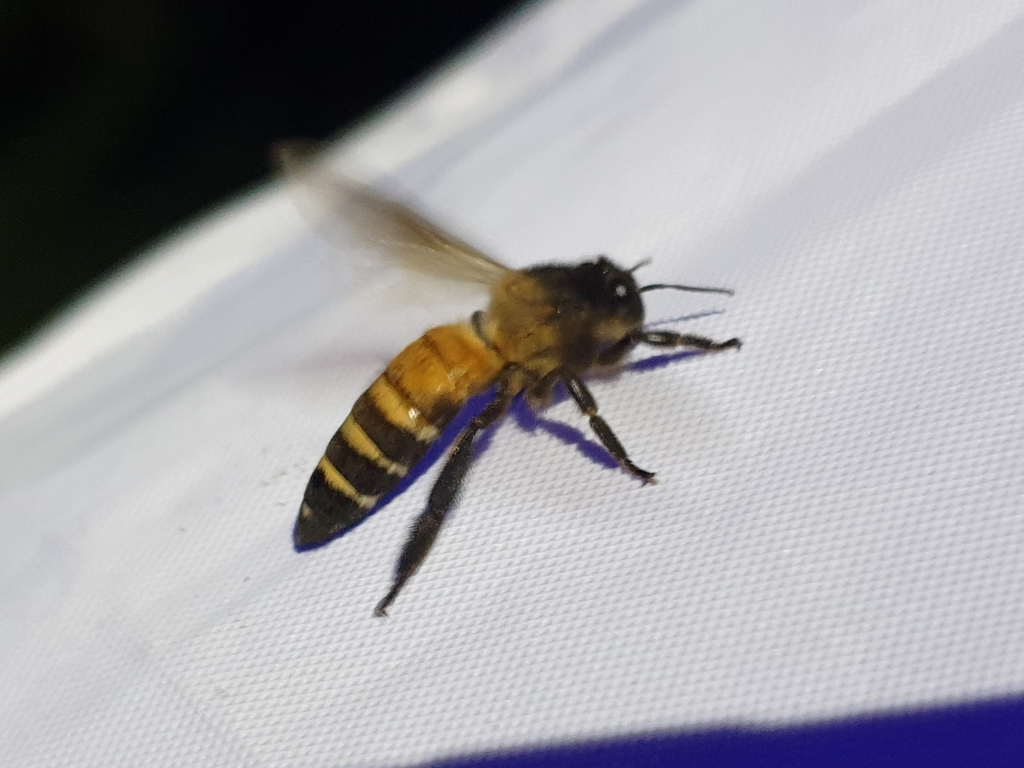not_bumblebee: (259, 126, 746, 623)
